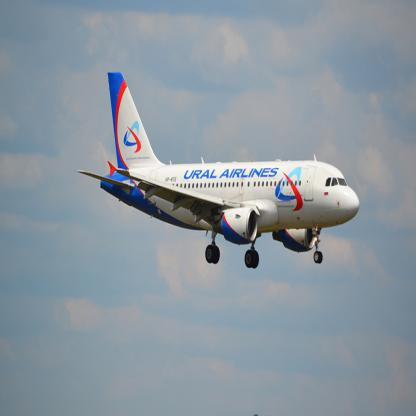CIV_Plane: (74, 66, 360, 276)
